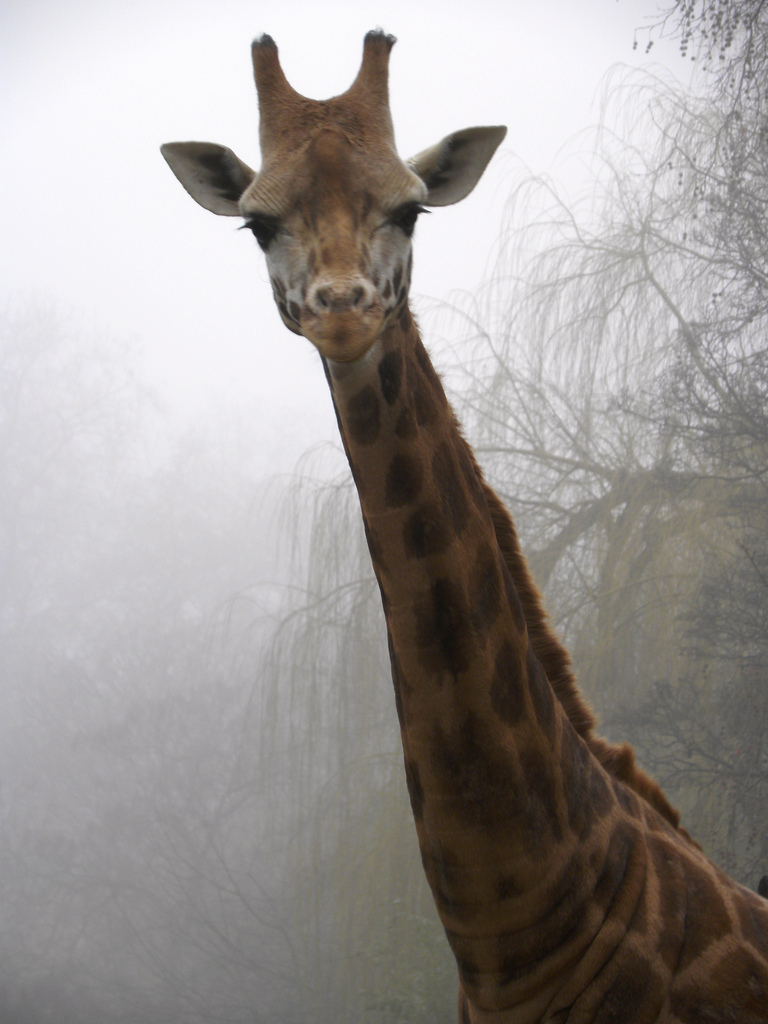giraffe: (170, 33, 707, 983)
